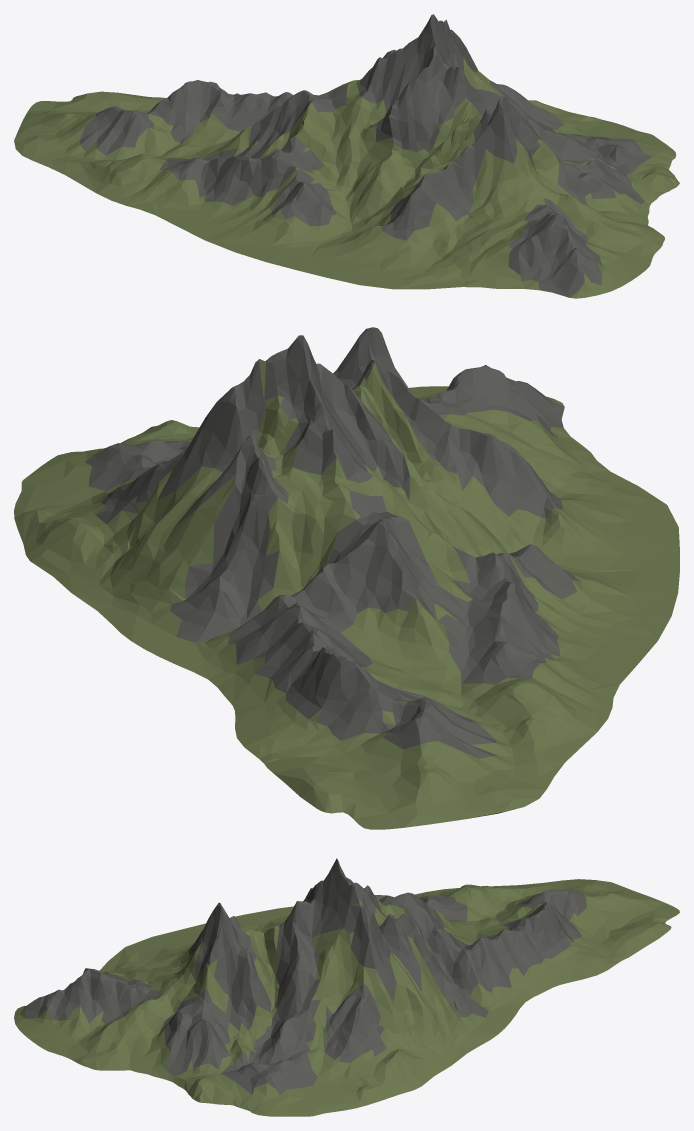
The model's file is SM_Envr_Nature_Mountain_04.fbx.
3 views of the same model, one above another, from view 1: azimuth 30°, elevation 25°; view 2: azimuth 150°, elevation 25°; view 3: azimuth 270°, elevation 25° (orthographic). The views are drawn at different scales.
Visible parts, largest first — view 1: SM_Envr_Nature_Mountain_04; view 2: SM_Envr_Nature_Mountain_04; view 3: SM_Envr_Nature_Mountain_04.
Part boxes in pixels (bbox=[...]): SM_Envr_Nature_Mountain_04: bbox=[14, 14, 679, 298]; SM_Envr_Nature_Mountain_04: bbox=[14, 327, 679, 829]; SM_Envr_Nature_Mountain_04: bbox=[14, 858, 679, 1116].
Size of the model in its own units: 103702 by 32292 by 122777.
